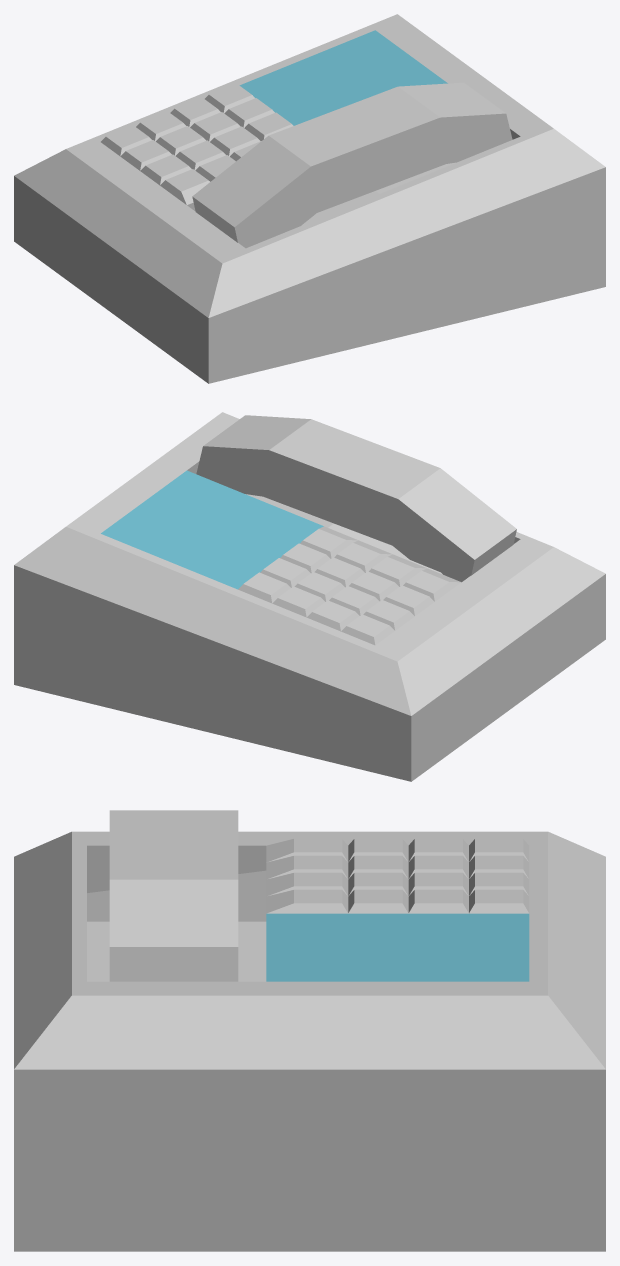
The model's file is phone.fbx.
3 views of the same model, one above another, from view 1: azimuth 30°, elevation 25°; view 2: azimuth 150°, elevation 25°; view 3: azimuth 270°, elevation 25° (orthographic). The views are drawn at different scales.
Parts seen in each view (by area): view 1: Cube, Cube.001; view 2: Cube, Cube.001; view 3: Cube, Cube.001.
Part boxes in pixels (bbox=[...]): Cube: bbox=[14, 14, 605, 383]; Cube.001: bbox=[192, 82, 512, 248]; Cube: bbox=[14, 412, 605, 781]; Cube.001: bbox=[196, 415, 516, 582]; Cube: bbox=[14, 831, 605, 1251]; Cube.001: bbox=[109, 810, 238, 981].
Size of the model in its own units: 0.9317 by 0.4013 by 0.7901.
